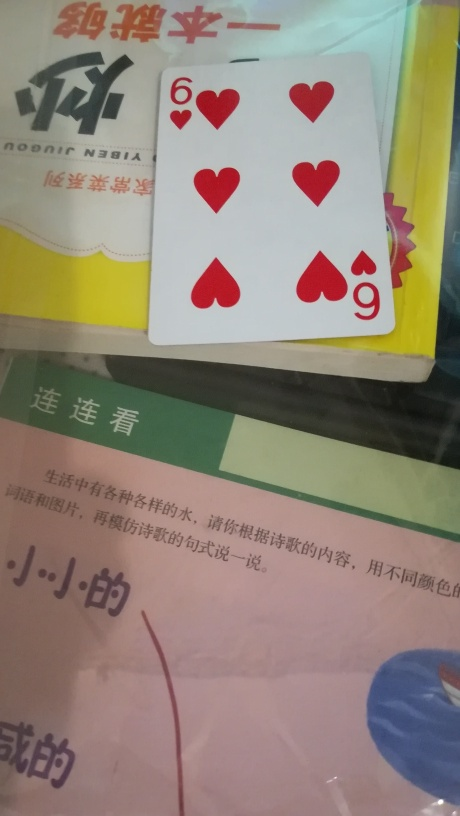hx 6: (149, 54, 399, 345)
